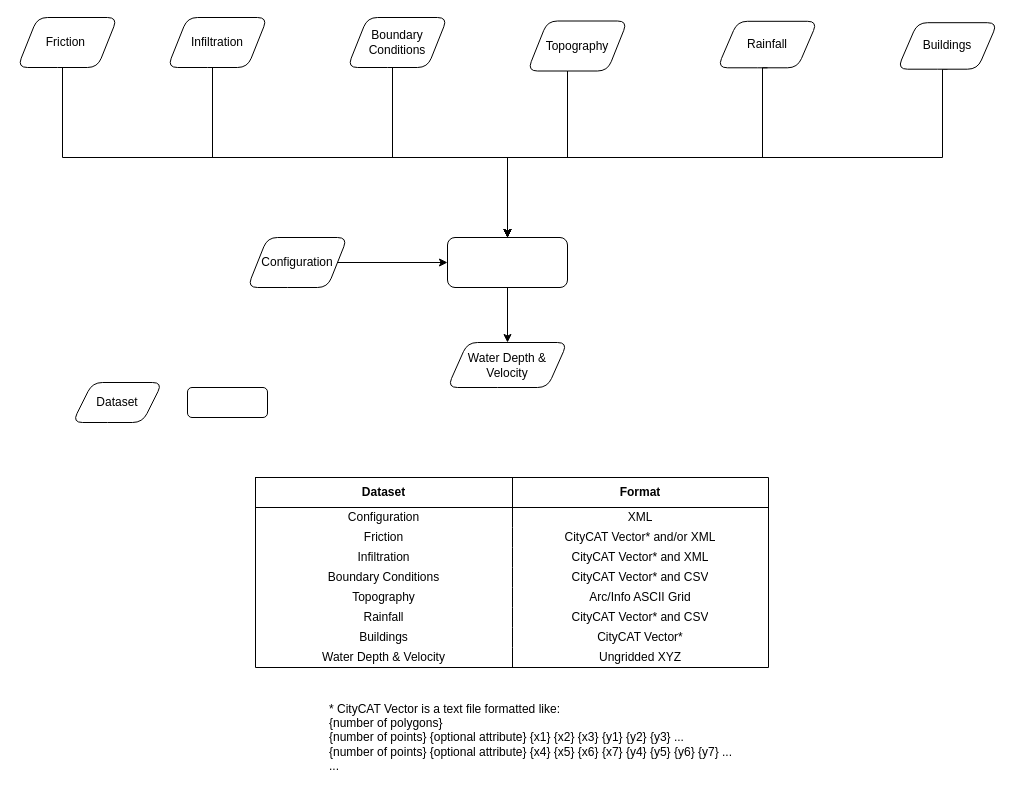
Some shapes in this 1015 by 795 pixel diagram are drawn without their labels. The centre of each missing label's shape, as x and y in pixels:
City Catchment Analysis Tool: point 507,262
Model: point 227,402
